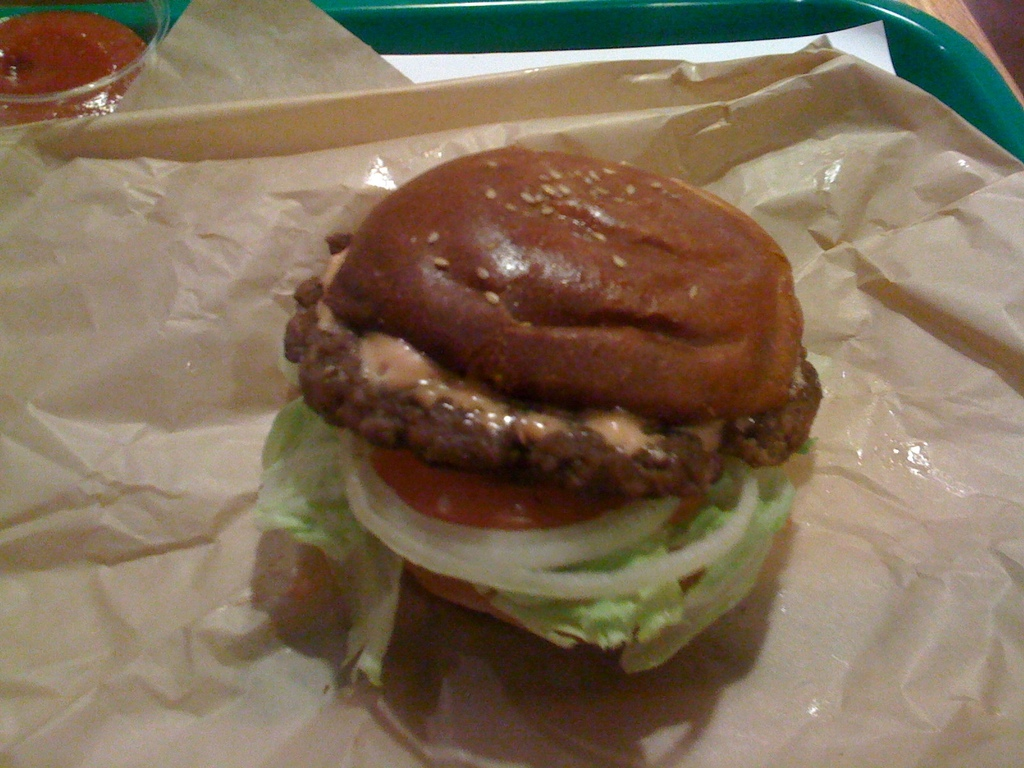Hamburger: (249, 140, 828, 687)
